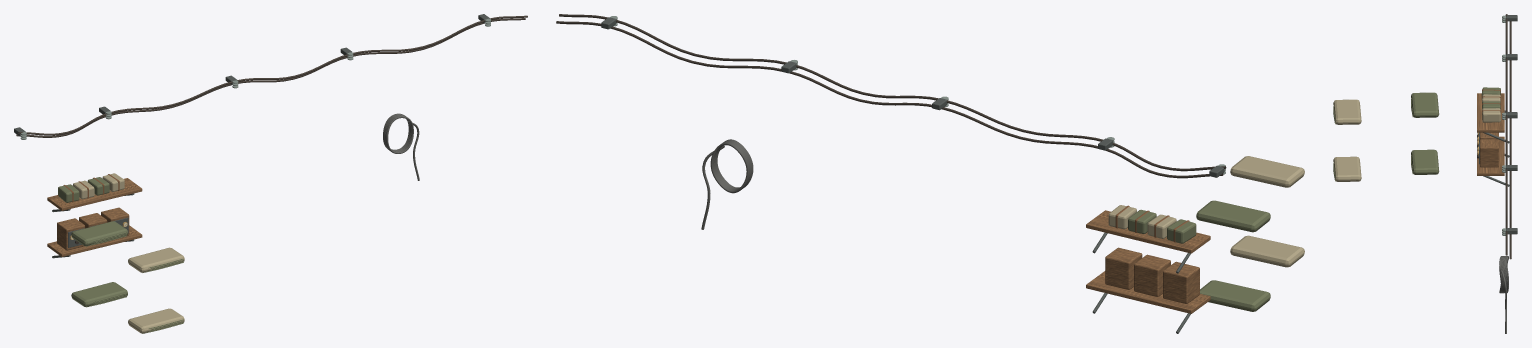
File: DugoutStores.fbx
The picture shows the model from 3 angles, left to right: view 1: azimuth 30°, elevation 25°; view 2: azimuth 150°, elevation 25°; view 3: azimuth 270°, elevation 25°; orthographic projection. The views are drawn at different scales.
Parts seen in each view (by area): view 1: HQ_Canvas, HQ_Linen, HQ_Bakelite, HQ_QuarterSawn, HQ_DarkWalnut, HQ_Graphite, HQ_Steel; view 2: HQ_Bakelite, HQ_Linen, HQ_Canvas, HQ_DarkWalnut, HQ_QuarterSawn, HQ_Graphite, HQ_Steel; view 3: HQ_Linen, HQ_Canvas, HQ_Bakelite, HQ_QuarterSawn, HQ_DarkWalnut, HQ_Steel, HQ_Graphite, HQ_Enamel.
Part boxes in pixels (x1=…): HQ_Canvas: x1=58, y1=177, x2=183, y2=333; HQ_Linen: x1=73, y1=173, x2=184, y2=333; HQ_Bakelite: x1=16, y1=15, x2=527, y2=244; HQ_QuarterSawn: x1=47, y1=178, x2=142, y2=256; HQ_DarkWalnut: x1=57, y1=207, x2=129, y2=250; HQ_Graphite: x1=125, y1=113, x2=419, y2=225; HQ_Steel: x1=14, y1=14, x2=489, y2=258; HQ_Bakelite: x1=556, y1=14, x2=1226, y2=178; HQ_Linen: x1=1108, y1=156, x2=1304, y2=267; HQ_Canvas: x1=1128, y1=200, x2=1270, y2=311; HQ_DarkWalnut: x1=1105, y1=247, x2=1199, y2=303; HQ_QuarterSawn: x1=1086, y1=210, x2=1210, y2=313; HQ_Graphite: x1=701, y1=139, x2=753, y2=229; HQ_Steel: x1=601, y1=17, x2=1224, y2=333; HQ_Linen: x1=1333, y1=94, x2=1500, y2=181; HQ_Canvas: x1=1333, y1=87, x2=1500, y2=181; HQ_Bakelite: x1=1477, y1=14, x2=1511, y2=259; HQ_QuarterSawn: x1=1477, y1=93, x2=1504, y2=175; HQ_DarkWalnut: x1=1480, y1=132, x2=1498, y2=167; HQ_Steel: x1=1479, y1=15, x2=1517, y2=234; HQ_Graphite: x1=1477, y1=133, x2=1508, y2=333; HQ_Enamel: x1=1502, y1=15, x2=1506, y2=235.
Bounding box in the file's own units: 8.32 × 2.28 × 2.78.
